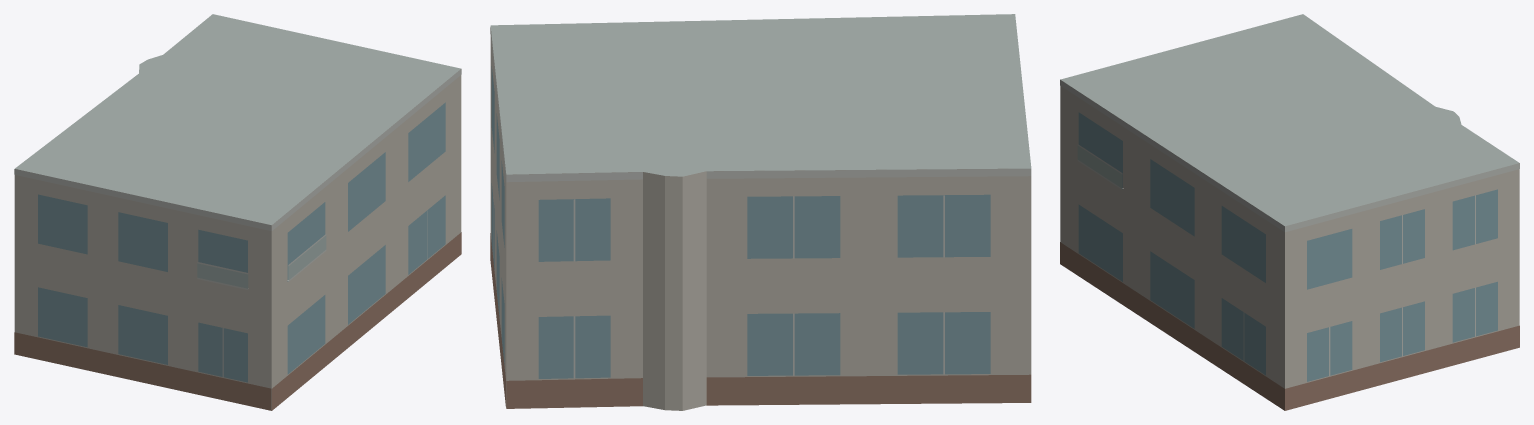
Rendered from survey-upis-32624873.glb.
The picture shows the model from 3 angles, left to right: view 1: azimuth 30°, elevation 25°; view 2: azimuth 150°, elevation 25°; view 3: azimuth 270°, elevation 25°; orthographic projection. The views are drawn at different scales.
Parts seen in each view (by area): view 1: survey-upis-32624873.tmp; view 2: survey-upis-32624873.tmp; view 3: survey-upis-32624873.tmp.
Boxes of the visible parts, x1=… form: survey-upis-32624873.tmp: x1=14, y1=14, x2=461, y2=410; survey-upis-32624873.tmp: x1=490, y1=14, x2=1031, y2=410; survey-upis-32624873.tmp: x1=1060, y1=14, x2=1519, y2=410.
Bounding box in the file's own units: 18.52 × 7.5 × 16.94.
